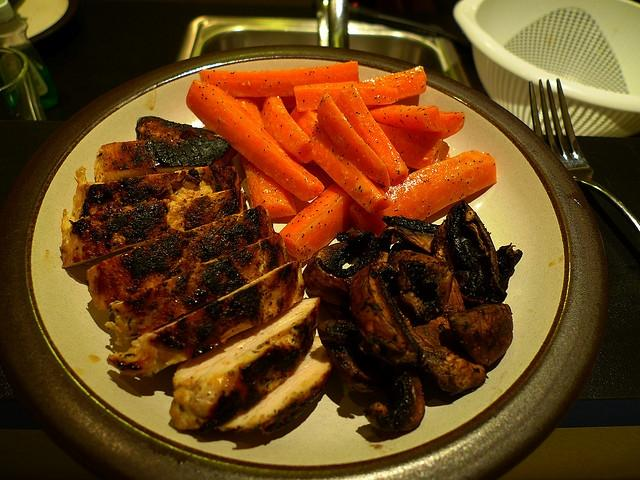carrot: (188, 80, 324, 202), (350, 150, 497, 236), (290, 106, 393, 214), (316, 93, 391, 186), (336, 85, 408, 181), (278, 183, 356, 262), (198, 60, 360, 96), (239, 153, 297, 218), (262, 96, 316, 163), (376, 123, 451, 169), (294, 82, 398, 112), (359, 66, 427, 110), (368, 105, 444, 132), (398, 110, 466, 140)
mushroom: (350, 262, 426, 370), (430, 200, 508, 304), (368, 243, 455, 324), (408, 316, 488, 396), (317, 320, 394, 394), (446, 303, 514, 366), (363, 376, 425, 432), (308, 230, 379, 278), (303, 258, 352, 308), (369, 226, 432, 264), (382, 216, 440, 253), (497, 243, 522, 292)
